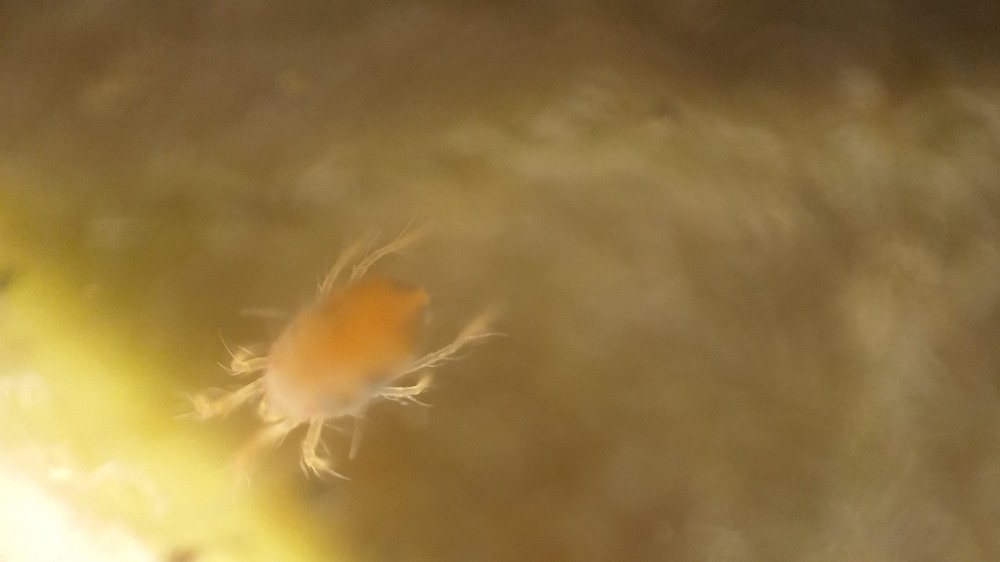Aracnido Rojo: (169, 217, 519, 503)
